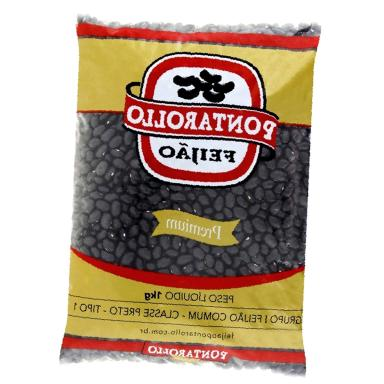beans package: (61, 17, 319, 372)
